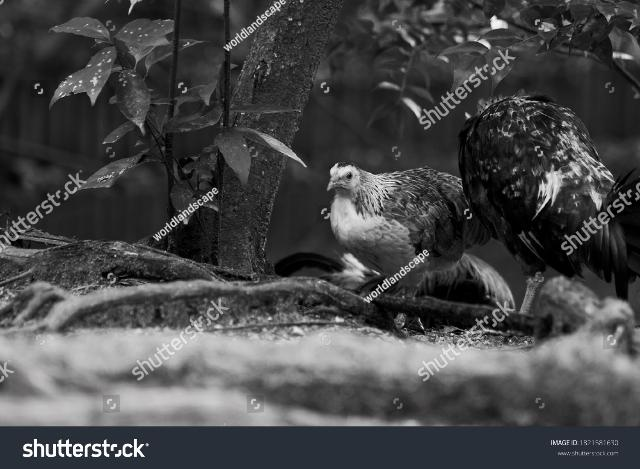Chicken: (460, 94, 637, 297), (322, 156, 487, 296)
